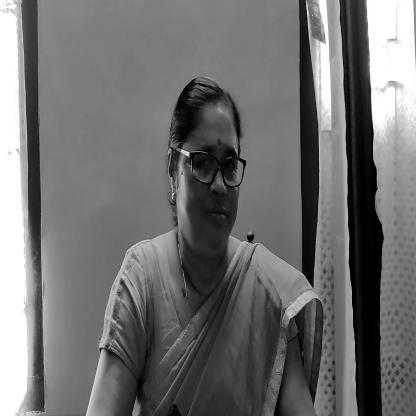Normal: (172, 76, 244, 266)
